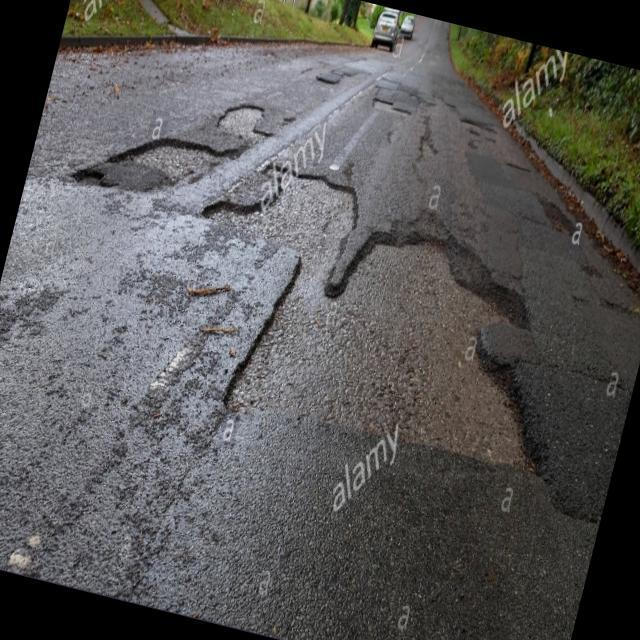Pothole: (0, 90, 640, 548), (364, 74, 509, 190), (200, 85, 312, 163)
